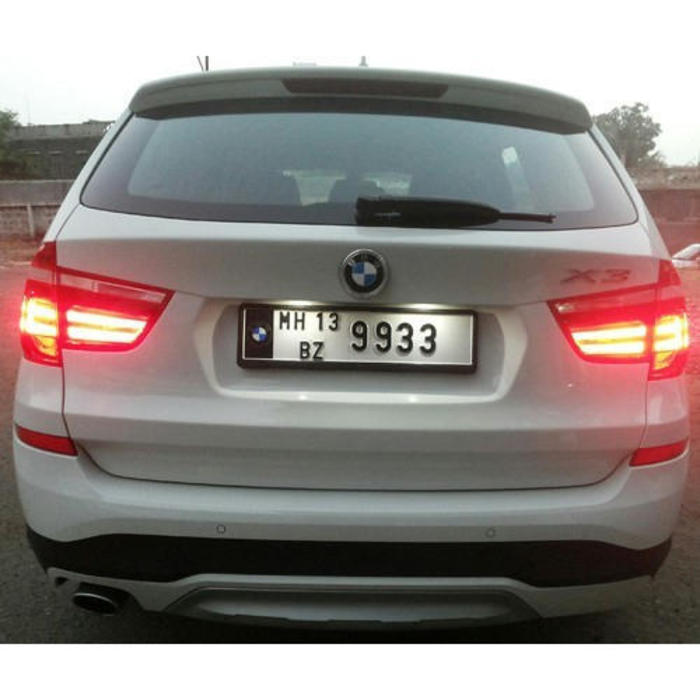n: (238, 300, 480, 374)
